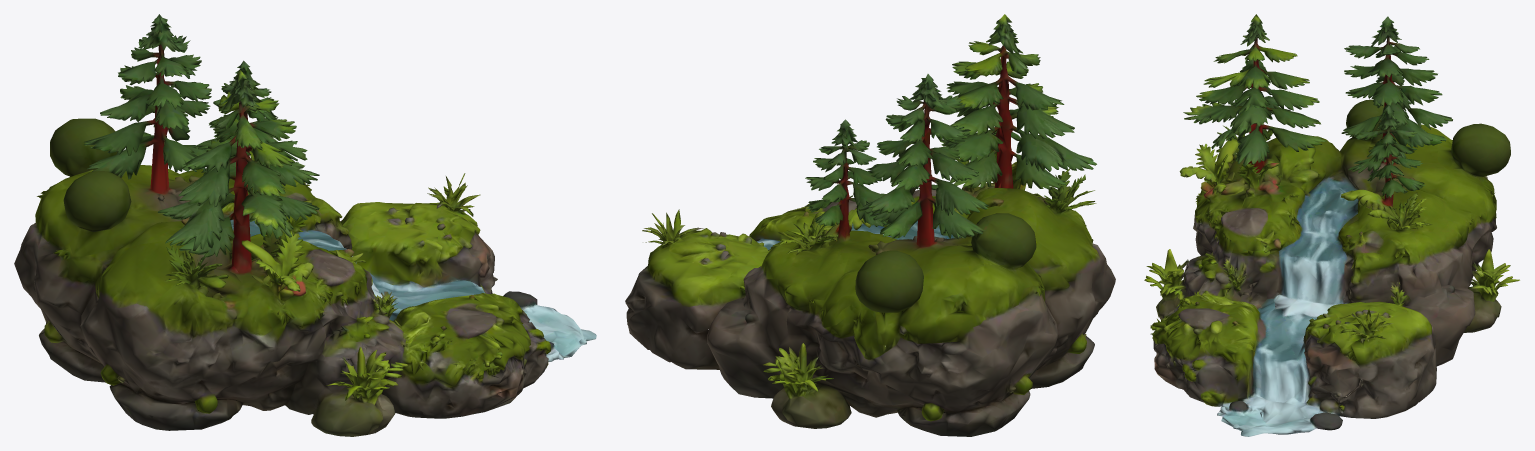
Rendered from roztocze.glb.
3 views of the same model, side by side, from view 1: azimuth 30°, elevation 25°; view 2: azimuth 150°, elevation 25°; view 3: azimuth 270°, elevation 25° (orthographic). The views are drawn at different scales.
Visible parts, largest first — view 1: tripo_node_b99d1060-14f2-48b8-8a67-ec0792f14cd4; view 2: tripo_node_b99d1060-14f2-48b8-8a67-ec0792f14cd4; view 3: tripo_node_b99d1060-14f2-48b8-8a67-ec0792f14cd4.
Part boxes in pixels (x1,y1,x2,y2): tripo_node_b99d1060-14f2-48b8-8a67-ec0792f14cd4: [14, 14, 596, 436]; tripo_node_b99d1060-14f2-48b8-8a67-ec0792f14cd4: [625, 14, 1115, 436]; tripo_node_b99d1060-14f2-48b8-8a67-ec0792f14cd4: [1144, 14, 1519, 436].
Size of the model in its own units: 0.9793 by 0.681 by 0.8169.
Materials: 1 (1 with a texture image).
